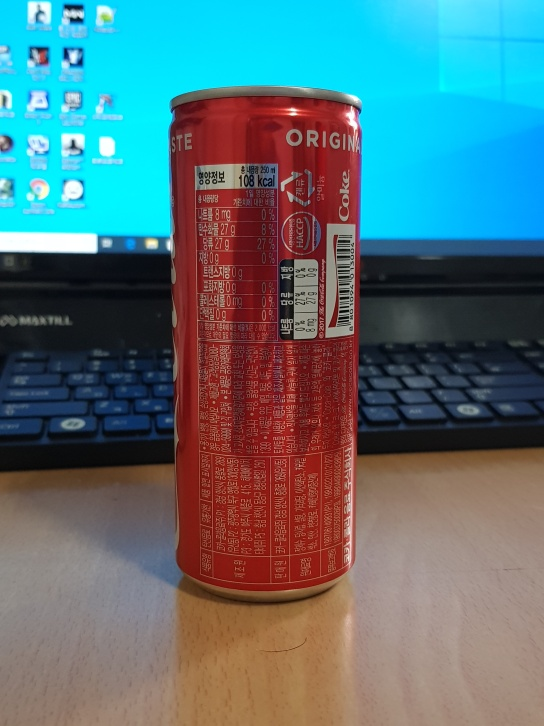Can: (163, 82, 364, 606)
